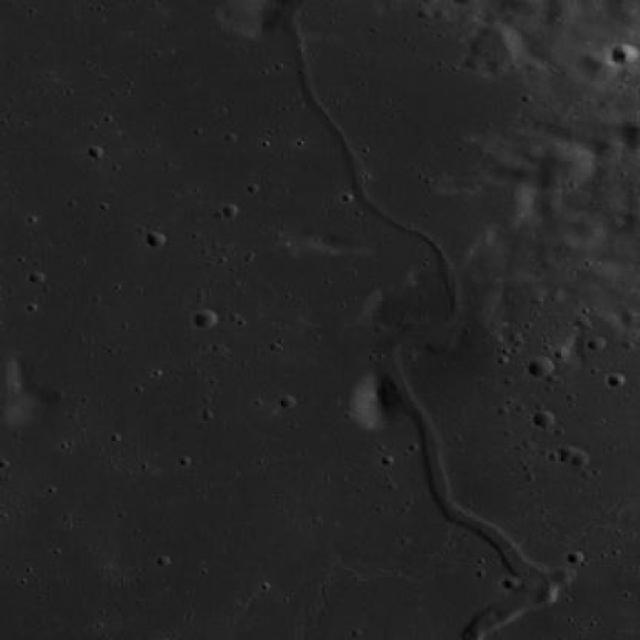crater: (571, 314, 634, 364), (470, 178, 532, 228), (530, 140, 592, 188), (467, 25, 524, 70), (572, 50, 616, 84), (566, 217, 603, 246), (538, 0, 578, 26), (496, 0, 542, 22), (586, 134, 622, 162), (530, 190, 564, 216), (492, 154, 520, 177), (610, 42, 639, 64), (527, 355, 555, 377), (511, 162, 538, 184), (548, 564, 574, 584), (193, 309, 216, 328), (522, 144, 546, 162), (605, 372, 627, 390), (533, 410, 555, 428), (557, 446, 577, 462), (570, 451, 590, 466)
